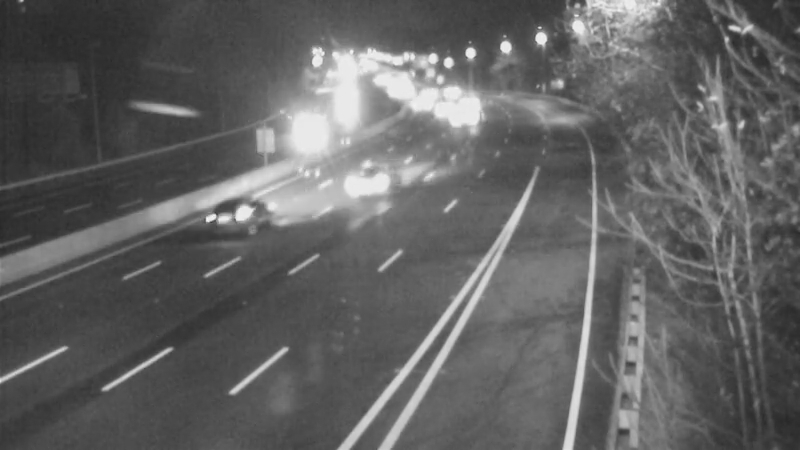vehicle: (328, 146, 408, 226), (181, 177, 261, 257), (426, 62, 476, 112), (400, 66, 450, 116), (441, 74, 491, 124), (399, 80, 449, 130), (421, 83, 471, 133), (442, 89, 492, 139), (282, 101, 332, 151)
